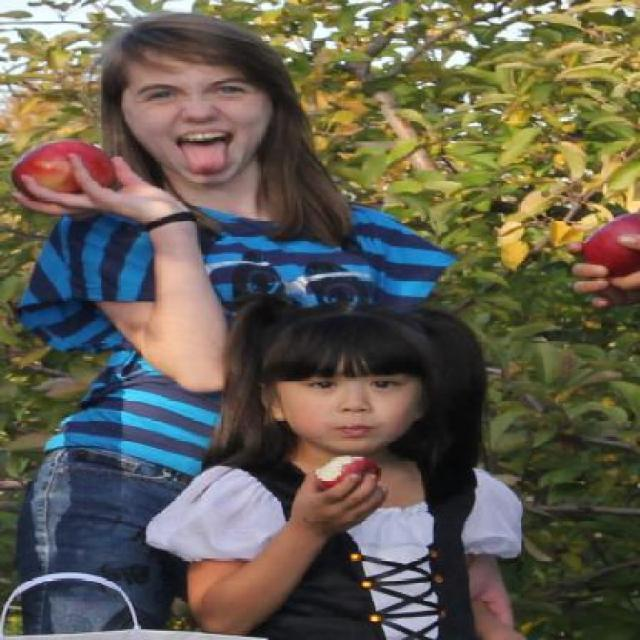Apple pie: (7, 136, 118, 198), (579, 210, 639, 276), (310, 456, 382, 492)
